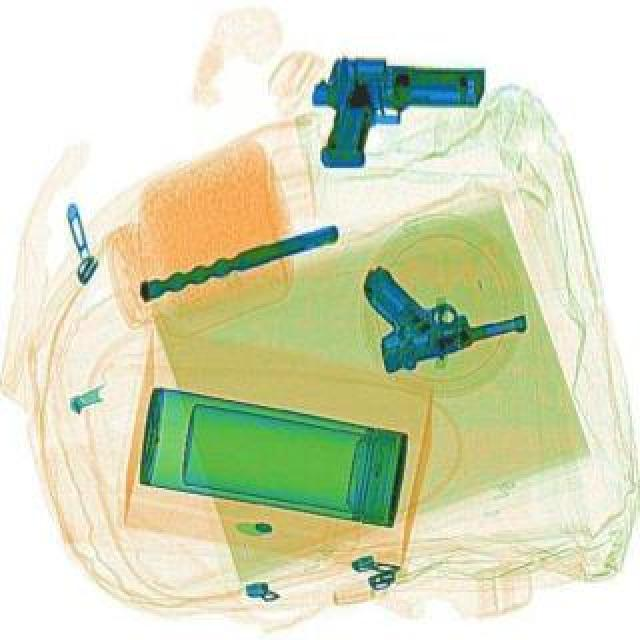gun: (350, 232, 530, 372), (306, 52, 486, 172)
